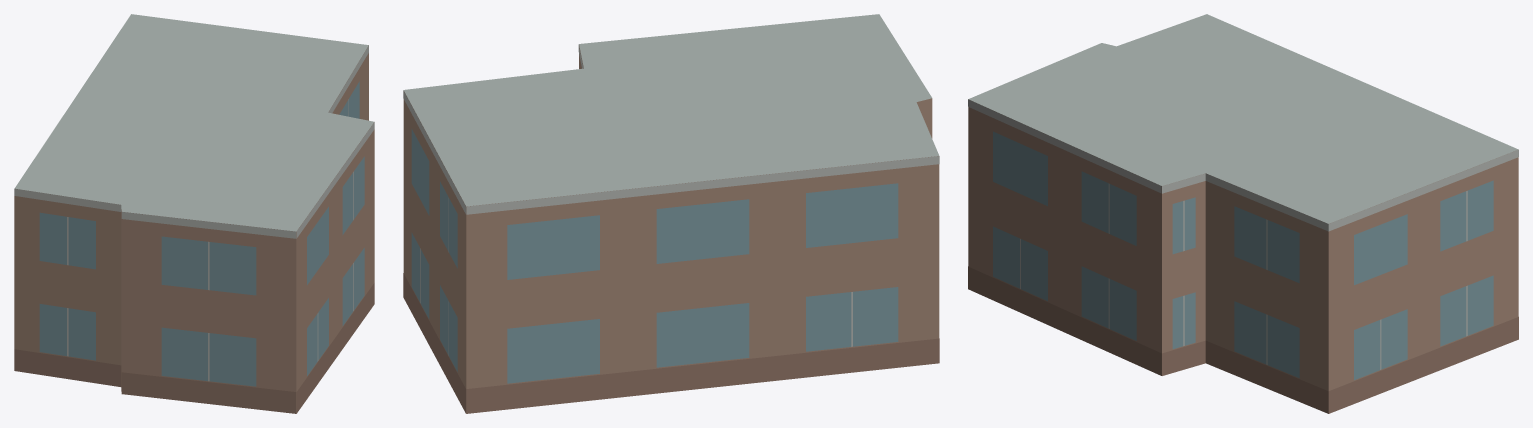
Rendered from survey-upis-32933239.glb.
3 views of the same model, side by side, from view 1: azimuth 30°, elevation 25°; view 2: azimuth 150°, elevation 25°; view 3: azimuth 270°, elevation 25° (orthographic). The views are drawn at different scales.
Visible parts, largest first — view 1: survey-upis-32933239.tmp; view 2: survey-upis-32933239.tmp; view 3: survey-upis-32933239.tmp.
Part boxes in pixels (x1,y1,x2,y2): survey-upis-32933239.tmp: (14, 14, 374, 413); survey-upis-32933239.tmp: (403, 14, 939, 413); survey-upis-32933239.tmp: (968, 14, 1518, 413).
Size of the model in its own units: 14.47 by 6.1 by 16.03.
